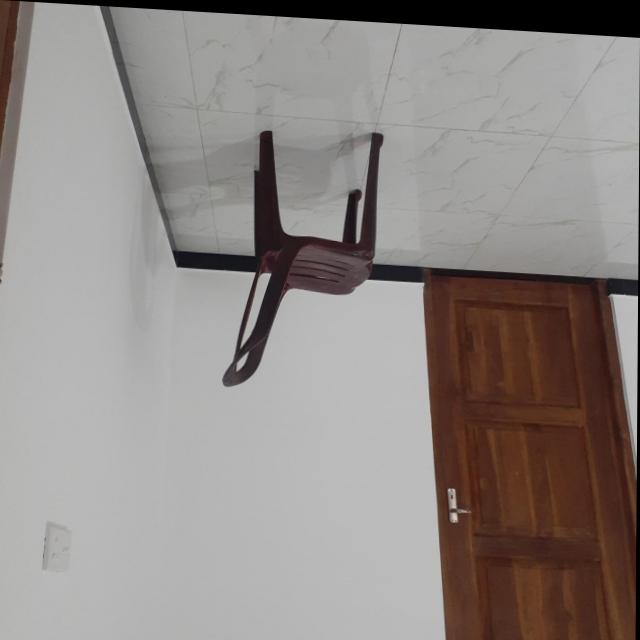Chair: (220, 119, 384, 392)
